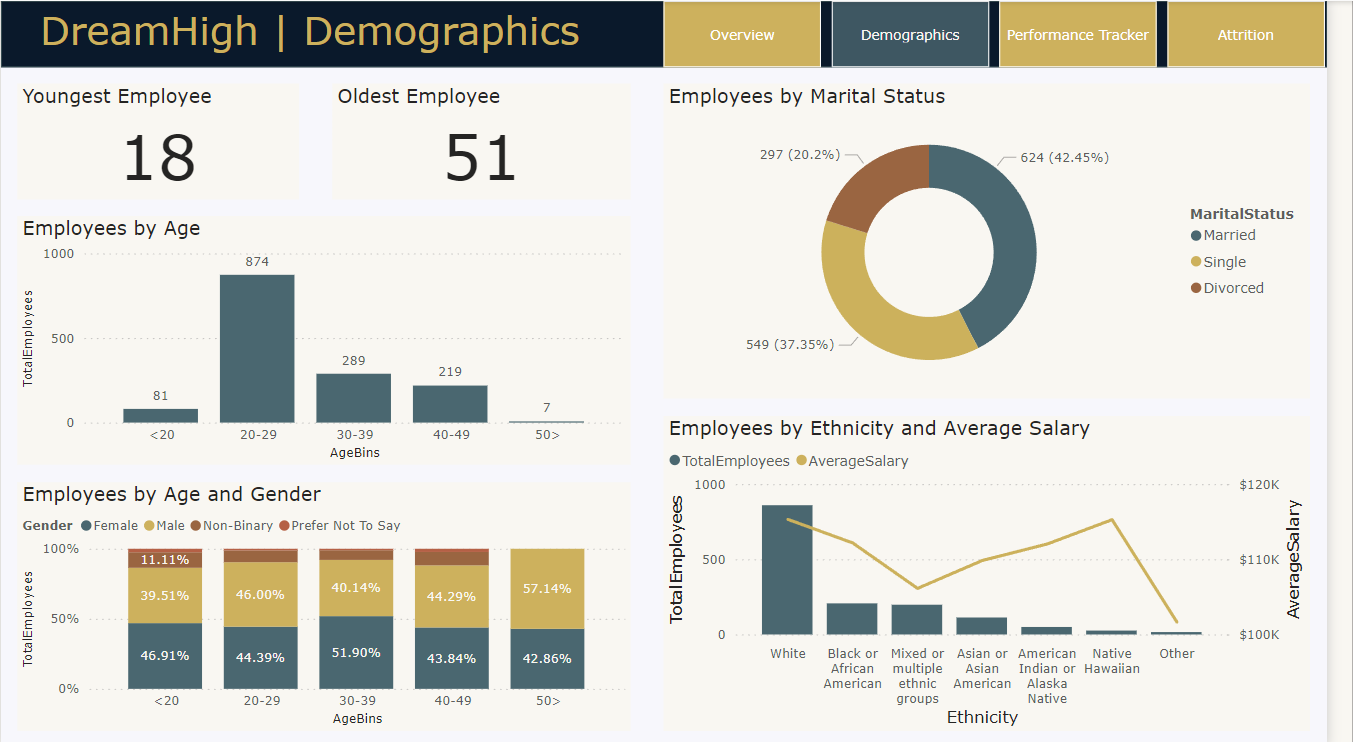

This screenshot's page, from the dashboard's own definition file:
{"tool":"powerbi","page":{"name":"Demographics","canvas":[1280,720],"ordinal":1},"visuals":[{"type":"card","title":"Youngest Employee","fields":{"Values":["Sum(DimEmployee.Age)"]},"box":[16,80,272,112],"z":0},{"type":"card","title":"Oldest Employee","fields":{"Values":["Sum(DimEmployee.Age)"]},"box":[320,80,288,112],"z":1000},{"type":"columnChart","title":"Employees by Age","fields":{"Category":["DimEmployee.AgeBins"],"Y":["_Measures.TotalEmployees"]},"box":[16,208,592,240],"z":2000},{"type":"hundredPercentStackedColumnChart","title":"Employees by Age and Gender","fields":{"Category":["DimEmployee.AgeBins"],"Series":["DimEmployee.Gender"],"Y":["_Measures.TotalEmployees"]},"box":[16,464,592,240],"z":3000},{"type":"donutChart","title":"Employees by Marital Status","fields":{"Category":["DimEmployee.MaritalStatus"],"Y":["_Measures.TotalEmployees"]},"box":[640,80,624,304],"z":4000},{"type":"lineStackedColumnComboChart","title":"Employees by Ethnicity and Average Salary","fields":{"Category":["DimEmployee.Ethnicity"],"Y":["_Measures.TotalEmployees"],"Y2":["_Measures.AverageSalary"]},"box":[640,400,624,304],"z":5000},{"type":"shape","box":[0,0,1280,64],"z":6000},{"type":"textbox","box":[32,0,624,64],"z":7000},{"type":"pageNavigator","box":[640,0,640,64],"z":8000}]}

Visuals, with their boxes in screenshot pixels (x1, y1, x2, y2), scaled from the page's 1280x720 canvas onto the 1353x742 screenshot:
"Youngest Employee" card: pyautogui.locateOnScreen(17, 82, 304, 198)
"Oldest Employee" card: pyautogui.locateOnScreen(338, 82, 643, 198)
"Employees by Age" columnChart: pyautogui.locateOnScreen(17, 214, 643, 462)
"Employees by Age and Gender" hundredPercentStackedColumnChart: pyautogui.locateOnScreen(17, 478, 643, 726)
"Employees by Marital Status" donutChart: pyautogui.locateOnScreen(676, 82, 1336, 396)
"Employees by Ethnicity and Average Salary" lineStackedColumnComboChart: pyautogui.locateOnScreen(676, 412, 1336, 726)
shape: pyautogui.locateOnScreen(0, 0, 1352, 66)
textbox: pyautogui.locateOnScreen(34, 0, 693, 66)
pageNavigator: pyautogui.locateOnScreen(676, 0, 1352, 66)
